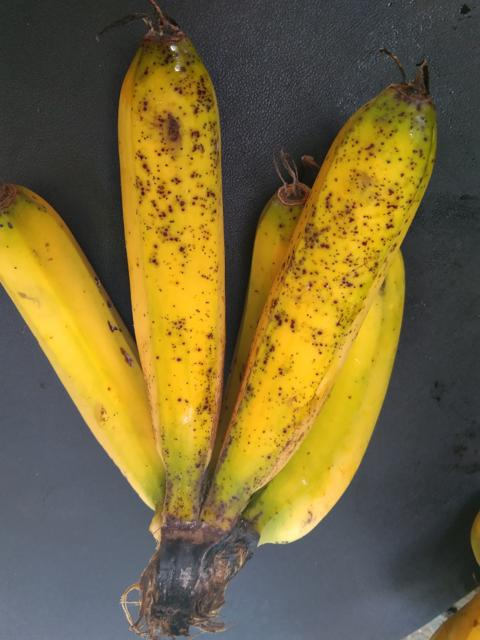ripe: (199, 59, 436, 517), (101, 22, 238, 496)
